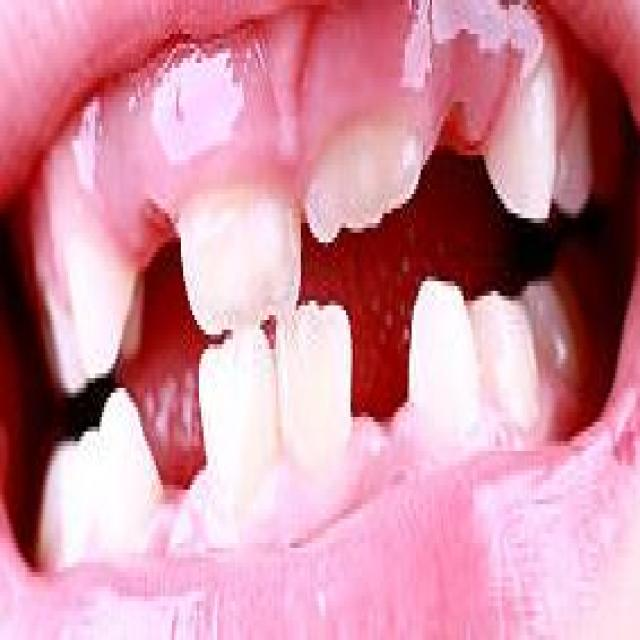hypodontia: (279, 94, 503, 308), (102, 184, 199, 352), (342, 301, 430, 446)
